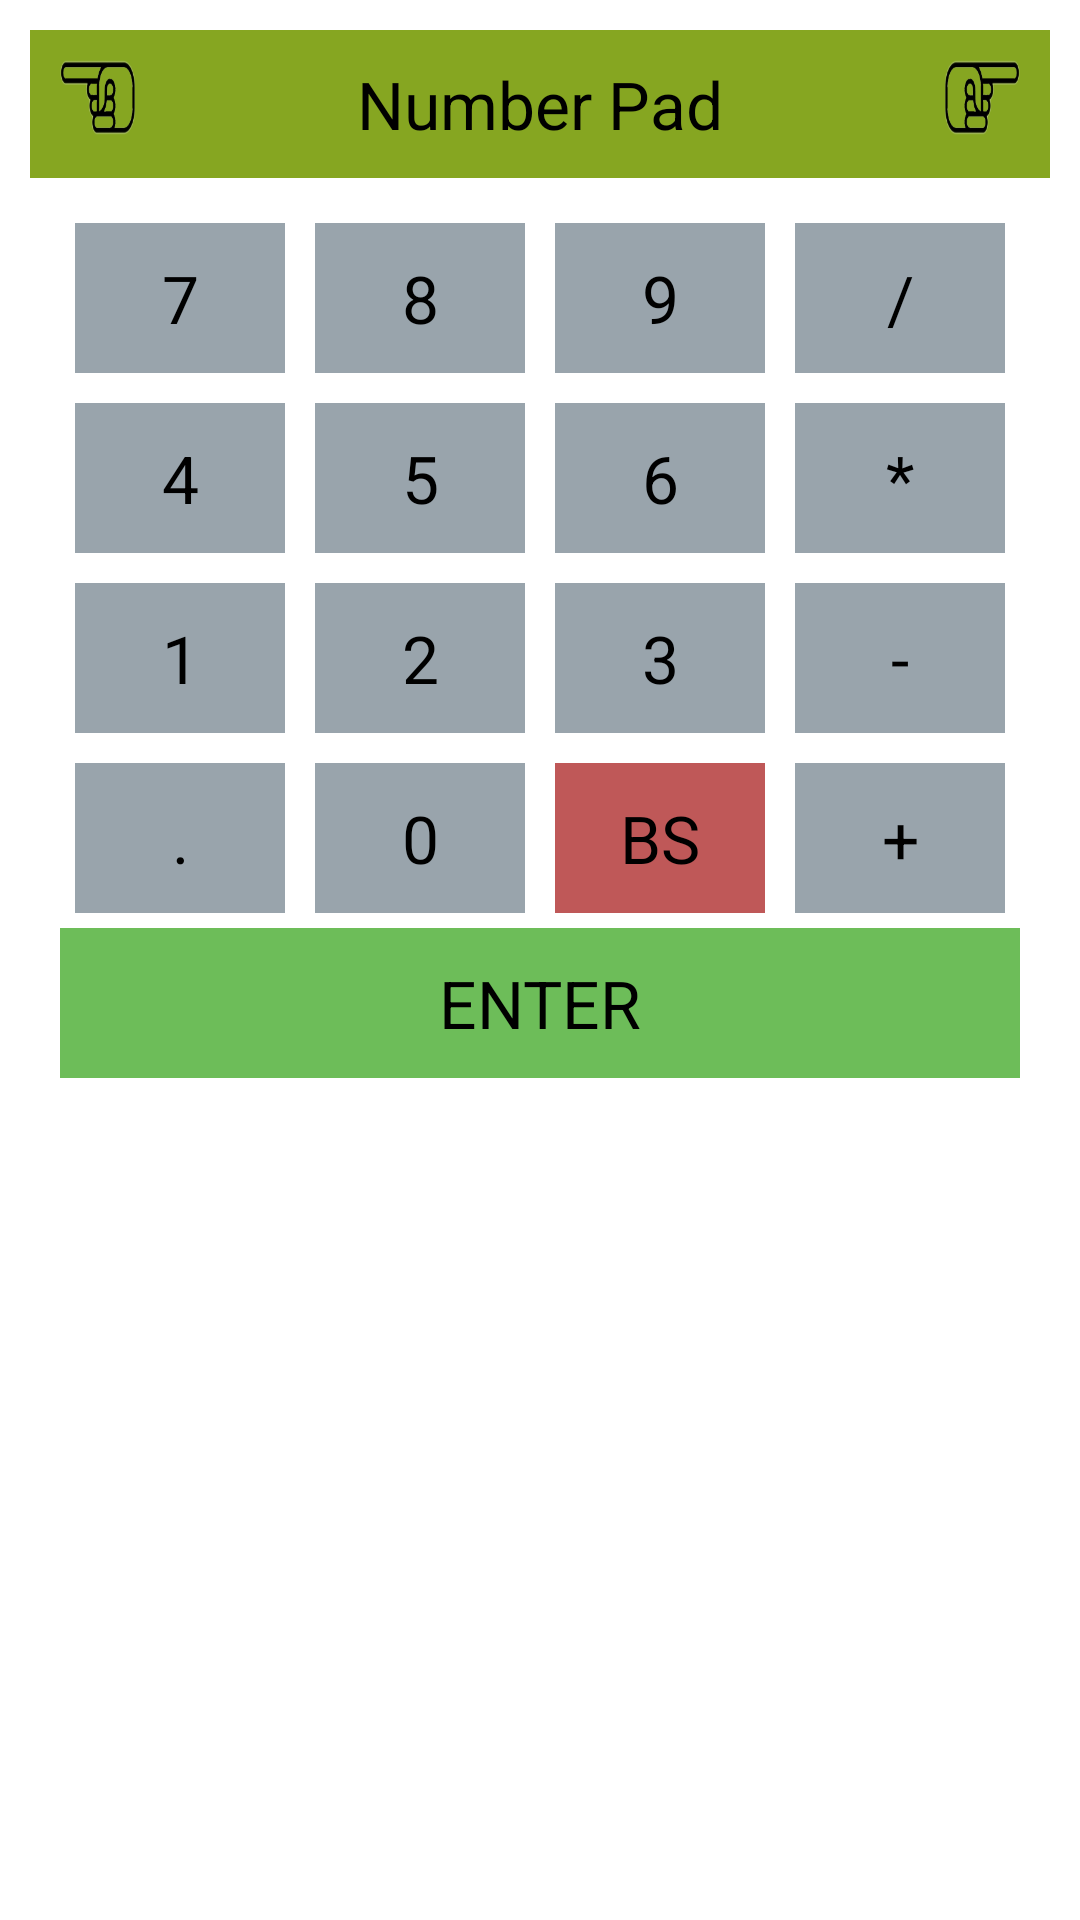

Point at icon controls on the screen. Image size 1080×1920, points as point (x, y).
next: point (982, 97)
prev: point (97, 97)
